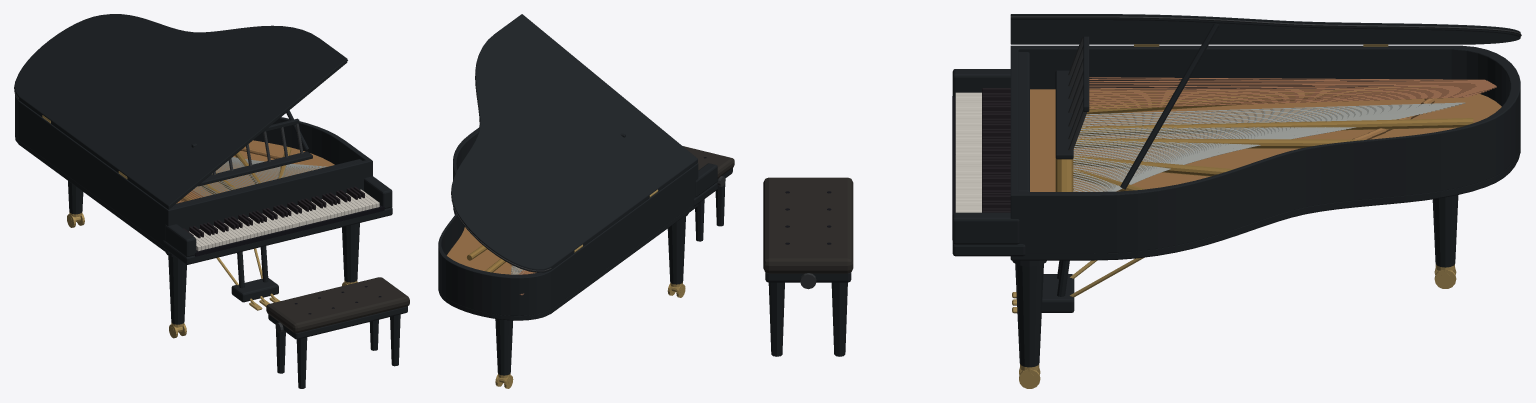
Rendered from grand.glb.
3 renders of one model, left to right at view 1: azimuth 30°, elevation 25°; view 2: azimuth 150°, elevation 25°; view 3: azimuth 270°, elevation 25°, orthographic. The views are drawn at different scales.
Visible parts, largest first — view 1: Surface; view 2: Surface; view 3: Surface.
Part boxes in pixels (bbox=[...]): Surface: bbox=[14, 14, 409, 388]; Surface: bbox=[438, 14, 734, 388]; Surface: bbox=[763, 14, 1521, 388].
Size of the model in its own units: 1.59 by 1.79 by 3.38.
